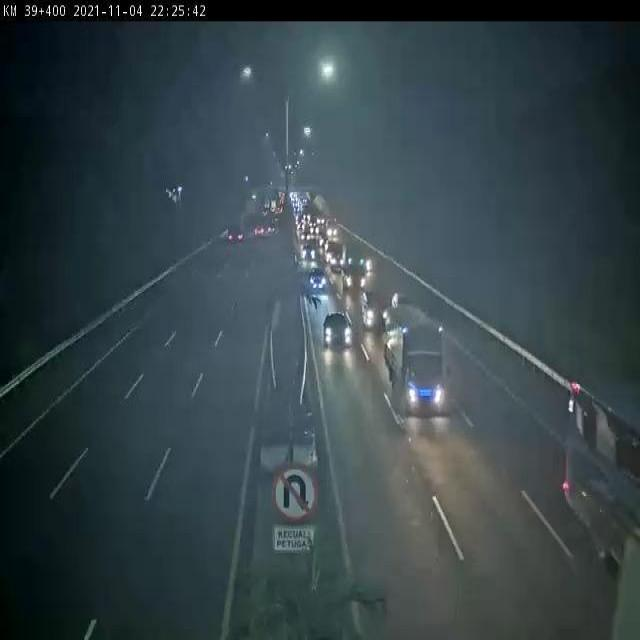bus-l-: (564, 371, 640, 576)
car: (319, 305, 355, 351), (358, 288, 389, 331), (339, 253, 367, 287), (308, 261, 329, 291)
truck-m-: (381, 309, 450, 420)
